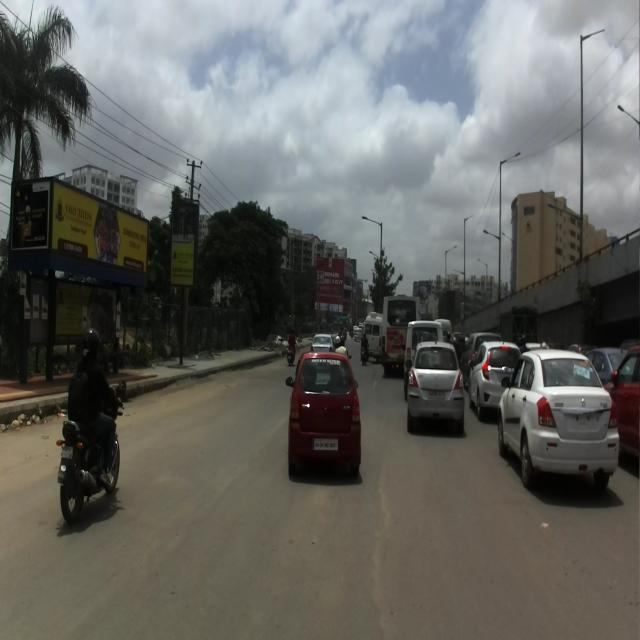car: (497, 346, 619, 490), (284, 350, 362, 481), (404, 340, 466, 435)
motorcycle: (55, 378, 127, 522)
